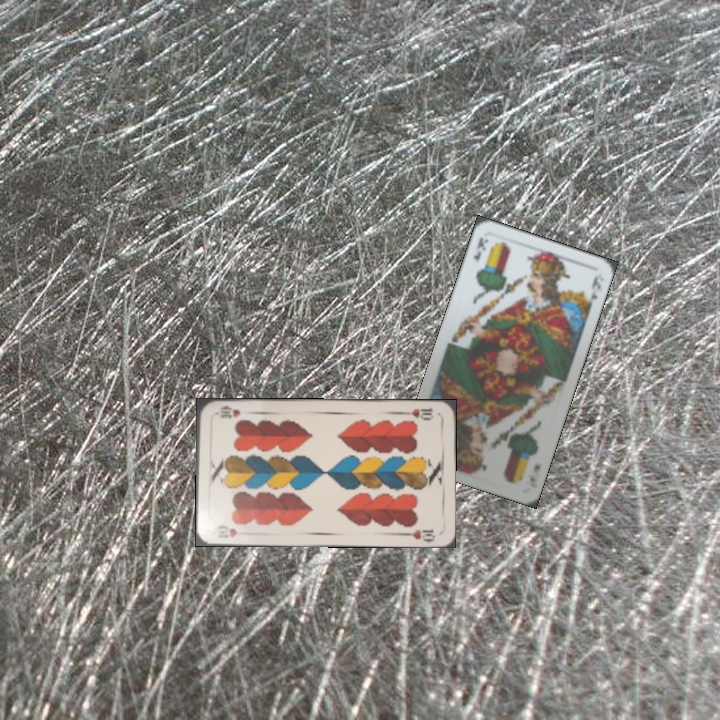EK: (469, 234, 491, 266), (526, 460, 543, 490)
H10: (399, 404, 436, 422), (211, 522, 240, 540)
